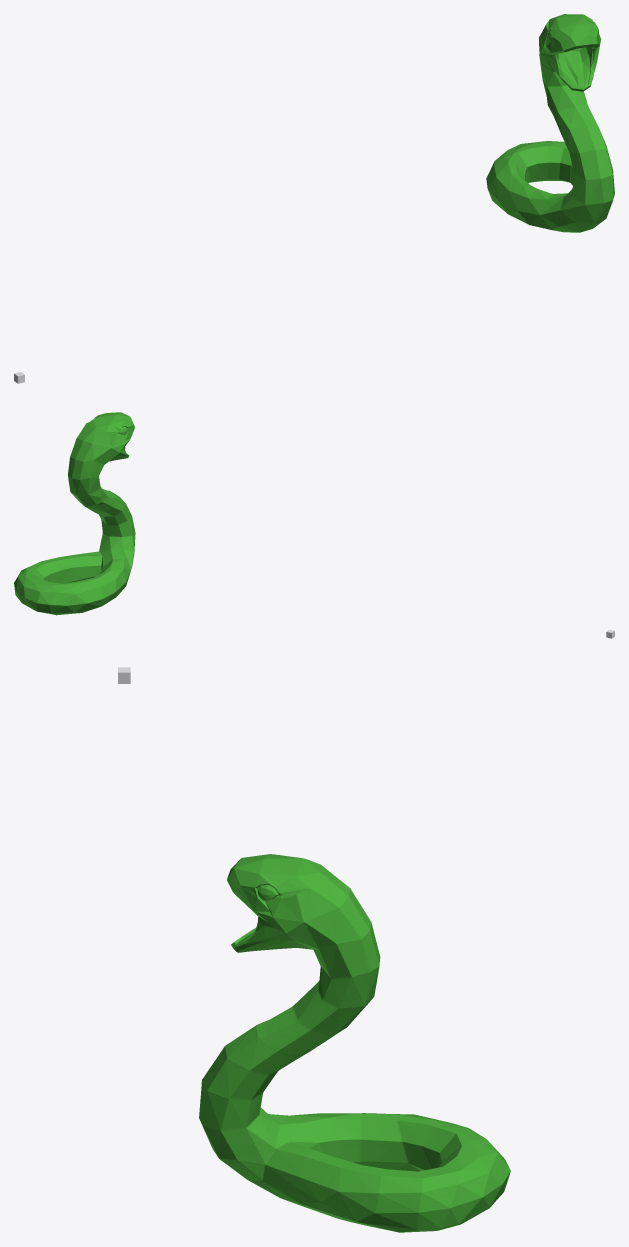
Rendered from snake.glb.
The picture shows the model from 3 angles, top to bottom: view 1: azimuth 30°, elevation 25°; view 2: azimuth 150°, elevation 25°; view 3: azimuth 270°, elevation 25°; orthographic projection. The views are drawn at different scales.
Visible parts, largest first — view 1: single_color-25; view 2: single_color-25; view 3: single_color-25.
Boxes of the visible parts, x1=… form: single_color-25: x1=486, y1=14, x2=614, y2=232; single_color-25: x1=14, y1=412, x2=135, y2=615; single_color-25: x1=199, y1=854, x2=510, y2=1232.
Bounding box in the file's own units: 193 × 57.56 × 62.93.
